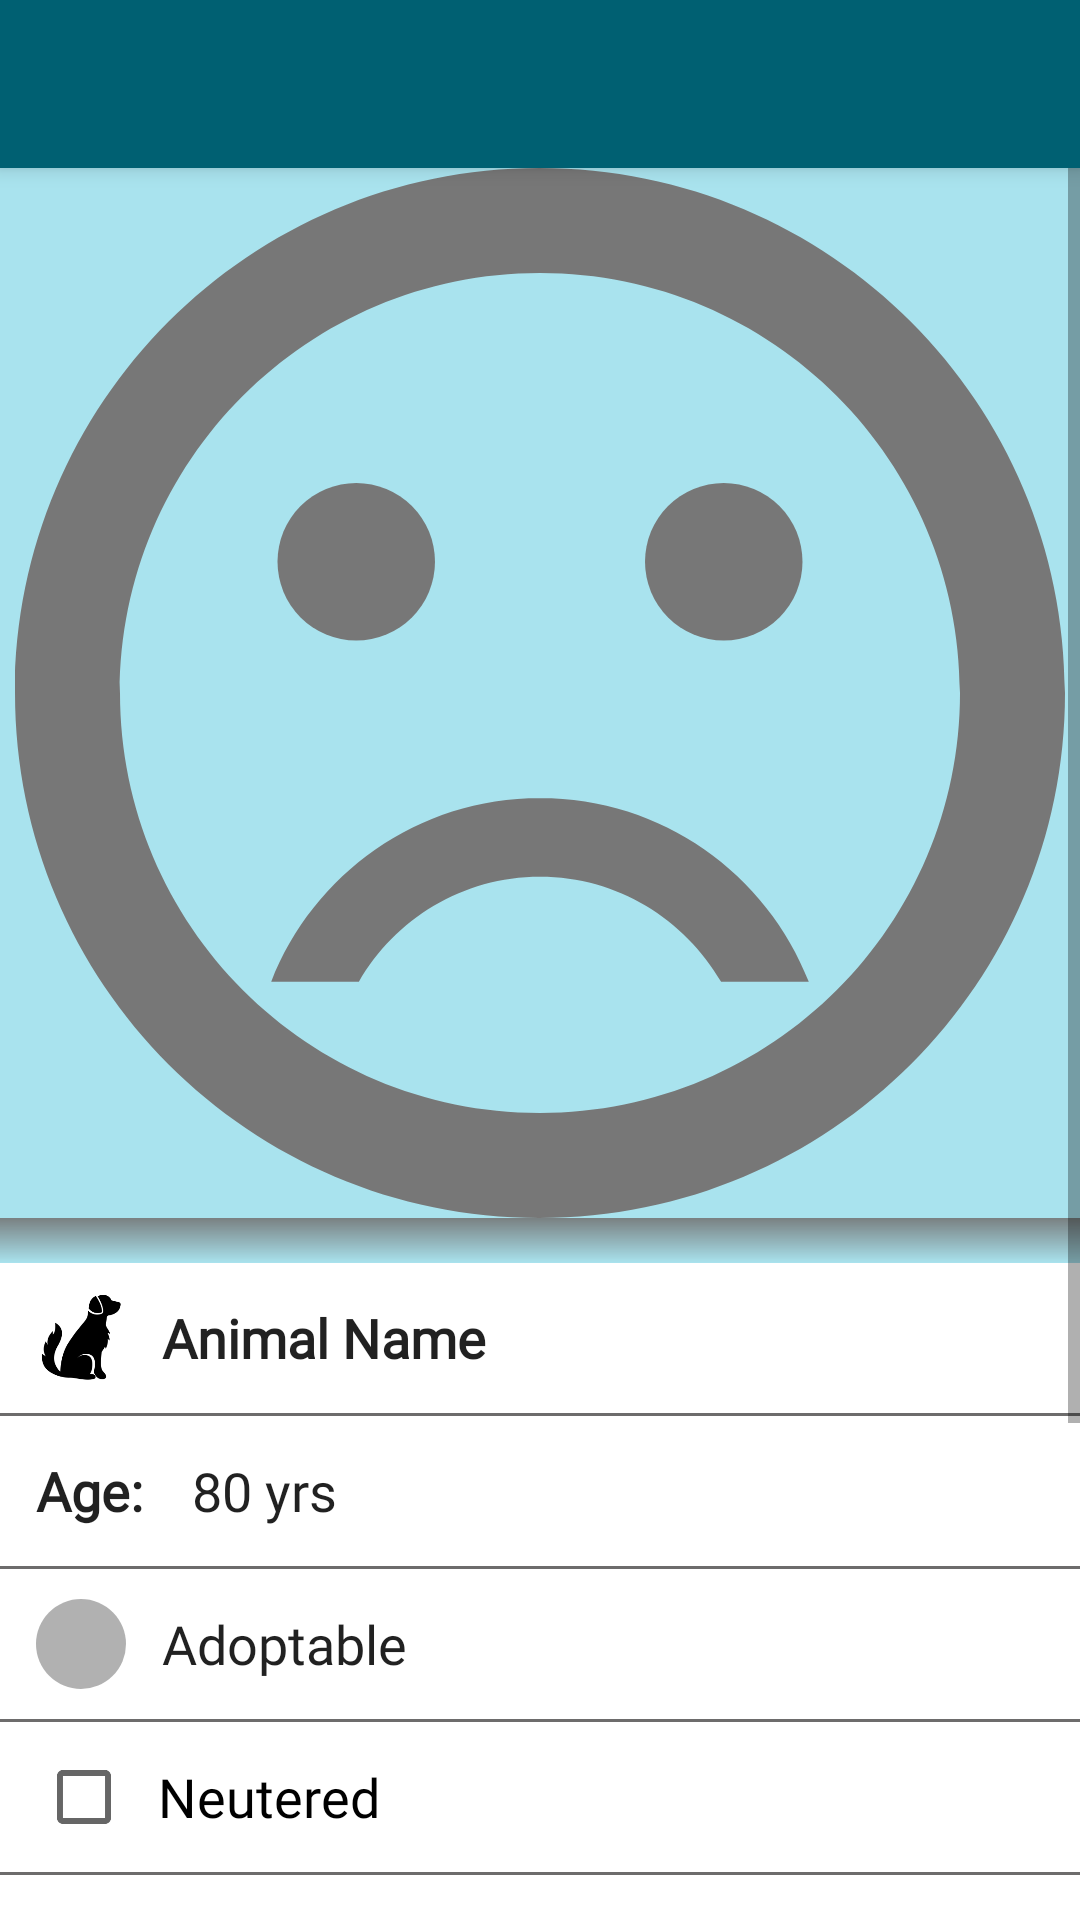

Icons on this 1080x1920 Android screen, each with its box as (x1, y1, x2, y2):
dog: (42, 1295, 121, 1380)
